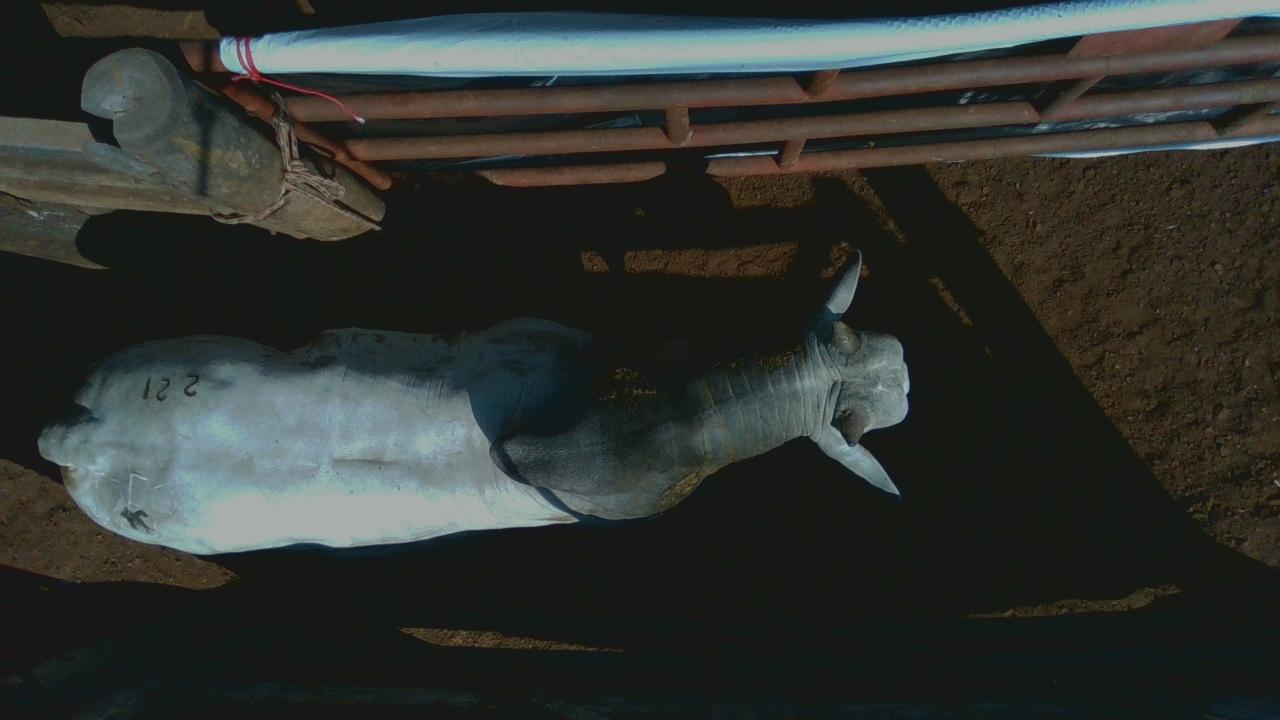cattle: (36, 246, 910, 557)
